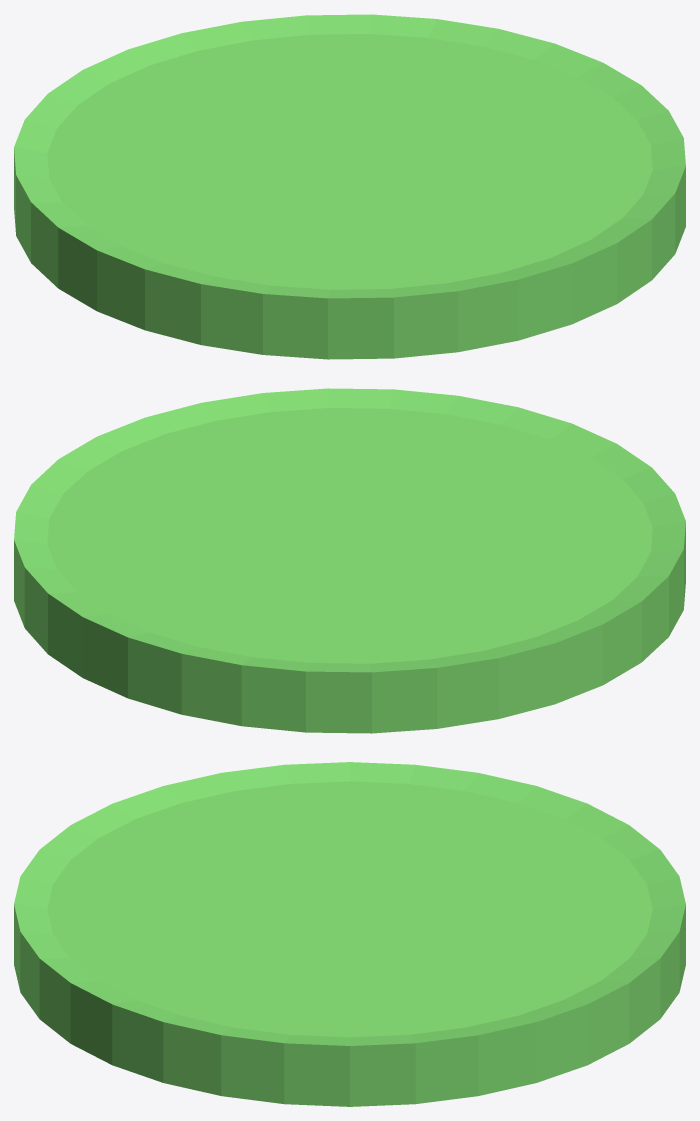
File: cyl.glb
3 views of the same model, one above another, from view 1: azimuth 30°, elevation 25°; view 2: azimuth 150°, elevation 25°; view 3: azimuth 270°, elevation 25° (orthographic).
Parts seen in each view (by area): view 1: Cylinder; view 2: Cylinder; view 3: Cylinder.
Part boxes in pixels (x1,y1,x2,y2): Cylinder: (14,14,685,359); Cylinder: (14,388,685,733); Cylinder: (14,762,685,1106).
Bounding box in the file's own units: 2 × 0.2 × 2.
